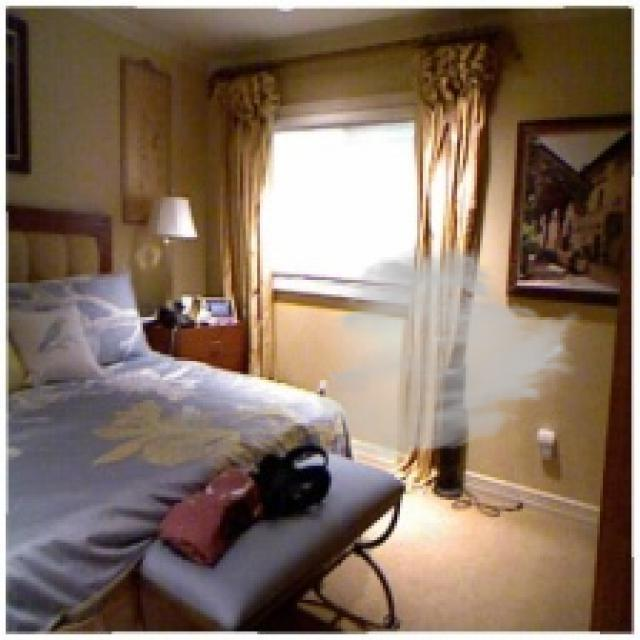Smoke: (311, 243, 586, 460)
